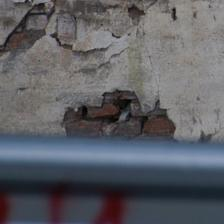Crack: (0, 0, 99, 68), (35, 24, 76, 76), (77, 31, 105, 99)
